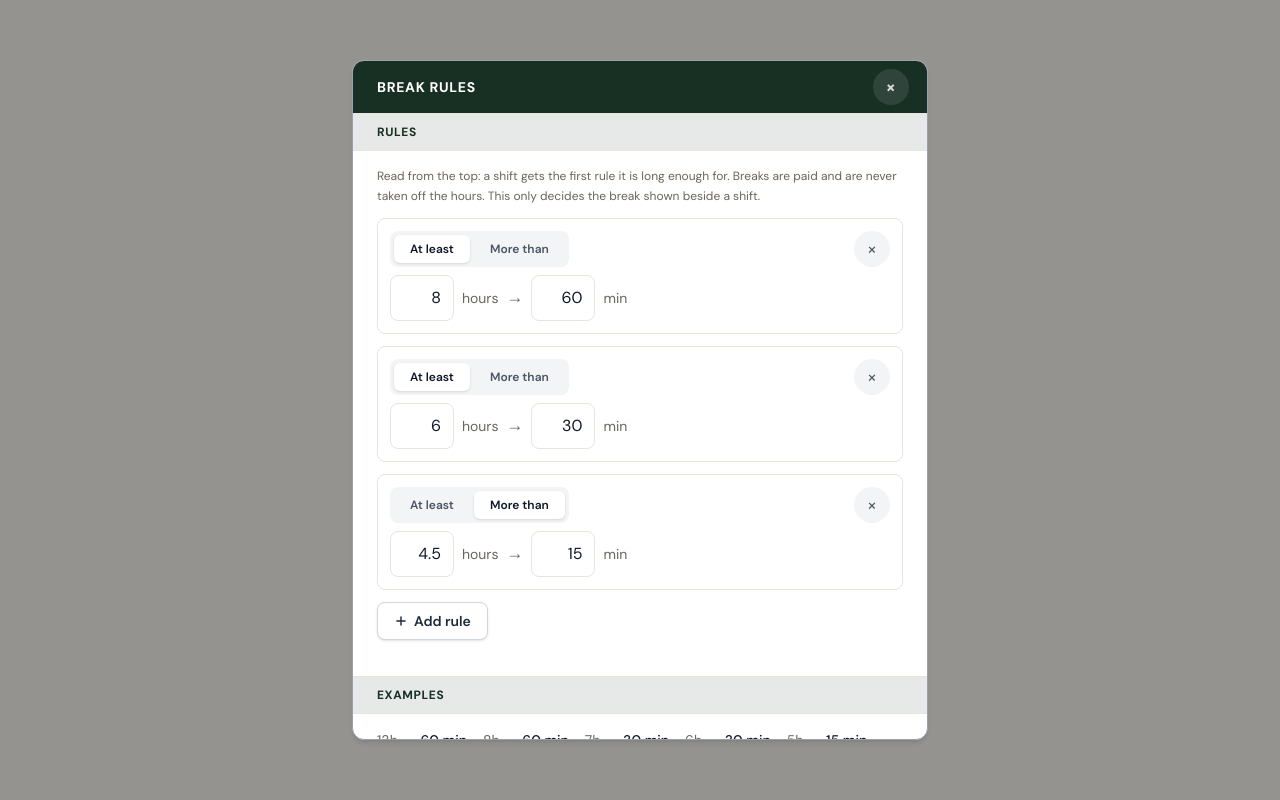
Scenario: BreakRulesModal › adds and removes a rung
Check: the number of elements named "which shifts" is 3, box 390,231 -> 569,267; 390,359 -> 569,395; 390,487 -> 569,523
Click the button "Add rule" at (432, 621), box 377,602 -> 488,640
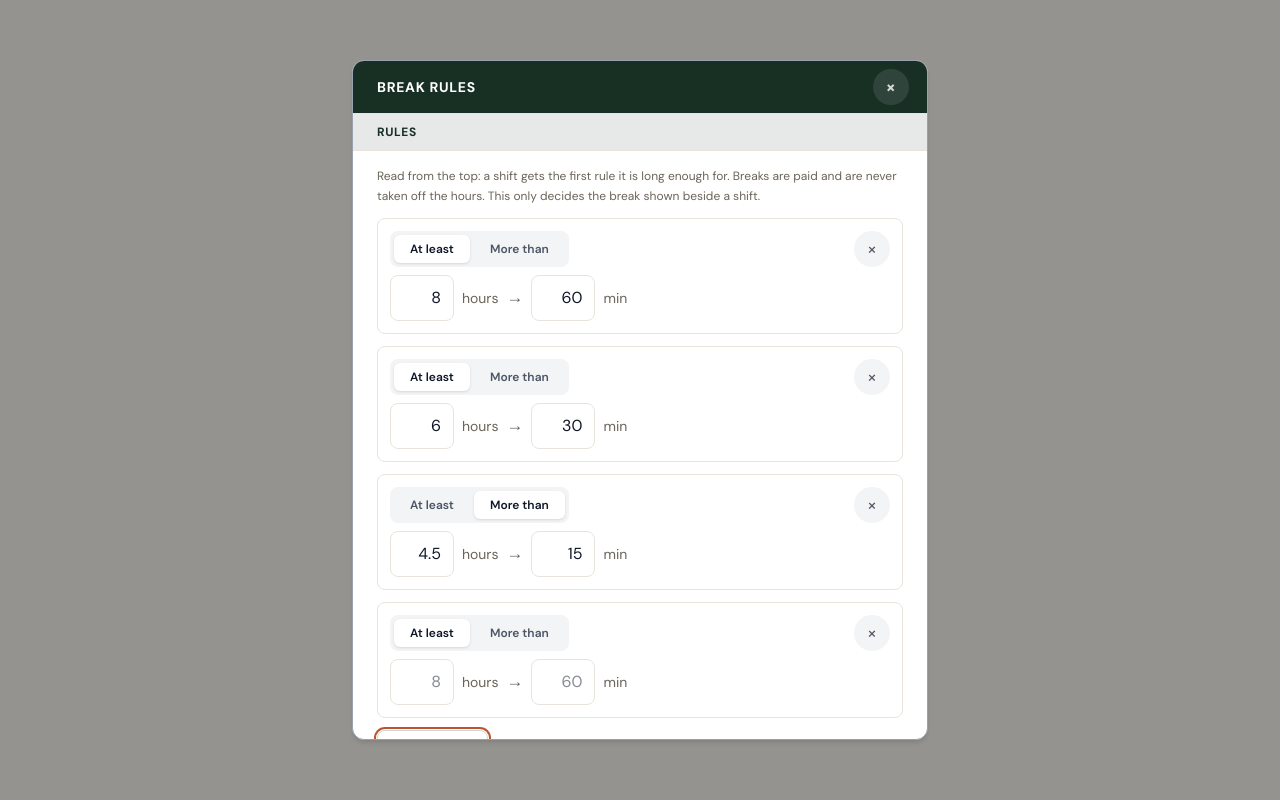
Check: the number of elements named "which shifts" is 4, box 390,231 -> 569,267; 390,359 -> 569,395; 390,487 -> 569,523; 390,615 -> 569,651
Click the button named "Remove this rule" at (872, 249), box 854,231 -> 890,267
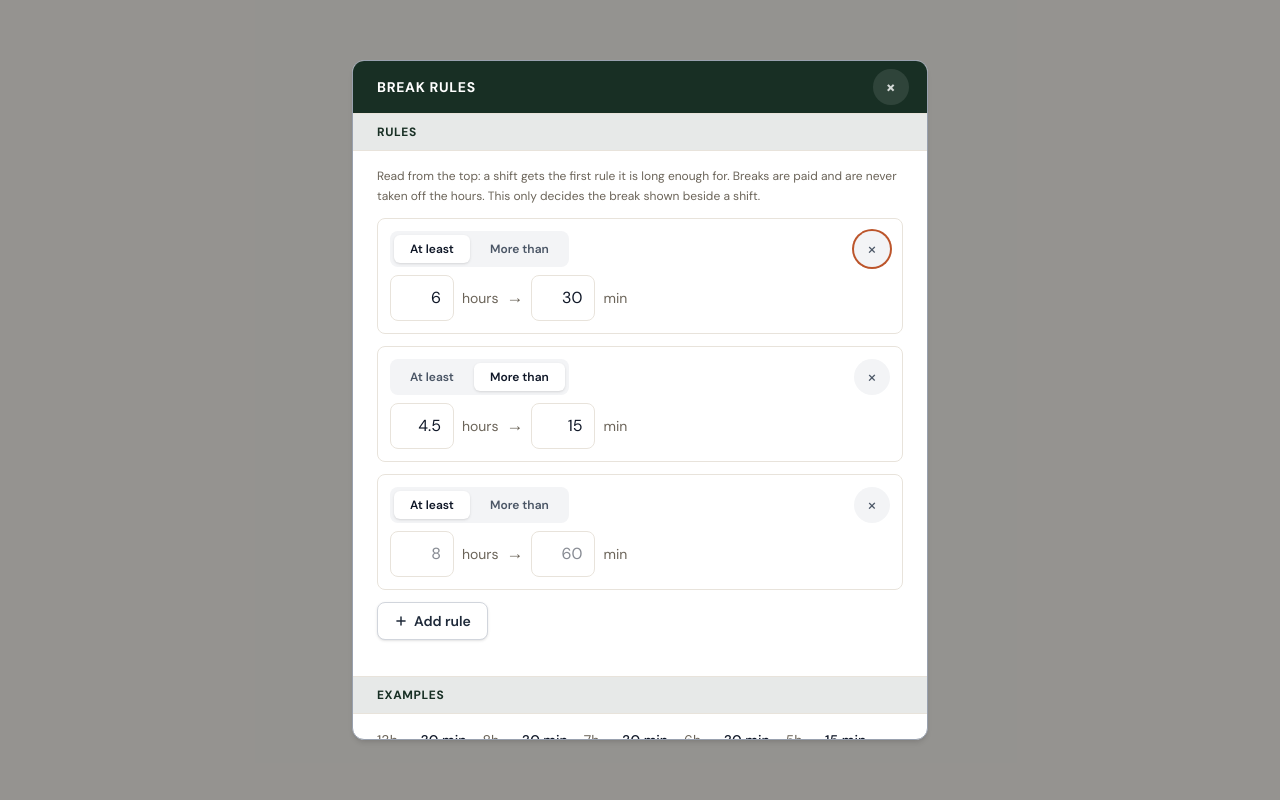
Check: the number of elements named "which shifts" is 3, box 390,231 -> 569,267; 390,359 -> 569,395; 390,487 -> 569,523
